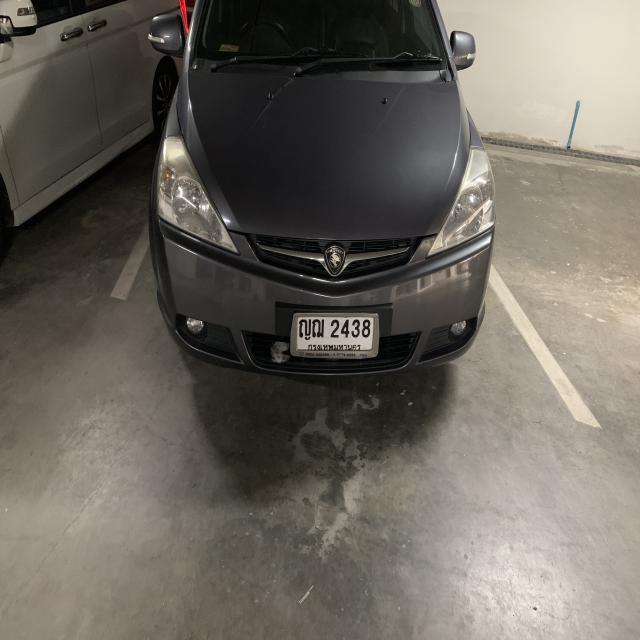license_plate: (290, 312, 384, 361)
